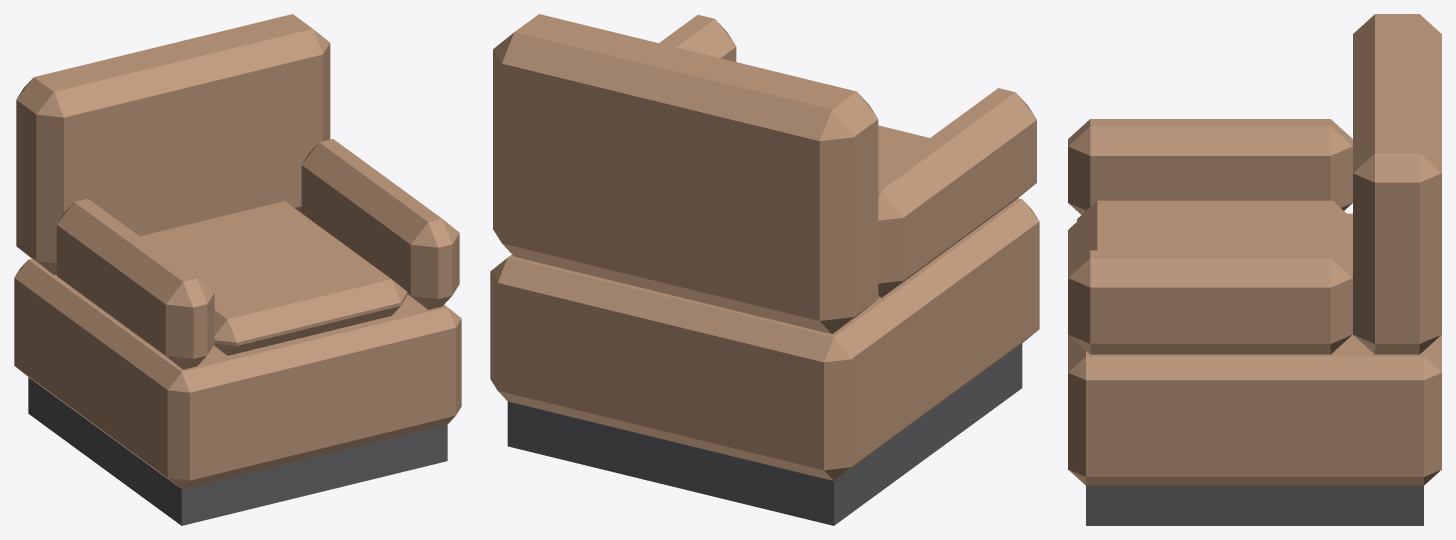
Rendered from armchair.glb.
3 renders of one model, left to right at view 1: azimuth 30°, elevation 25°; view 2: azimuth 150°, elevation 25°; view 3: azimuth 270°, elevation 25°, orthographic. The views are drawn at different scales.
Parts seen in each view (by area): view 1: armchair_leather, armchair_dark; view 2: armchair_leather, armchair_dark; view 3: armchair_leather, armchair_dark.
Part boxes in pixels (<box>): armchair_leather: <box>14,14,461,489</box>; armchair_dark: <box>28,377,447,525</box>; armchair_leather: <box>490,14,1039,480</box>; armchair_dark: <box>507,343,1022,525</box>; armchair_leather: <box>1068,14,1441,485</box>; armchair_dark: <box>1086,485,1423,525</box>.
Size of the model in its own units: 0.84 by 0.92 by 0.84.
